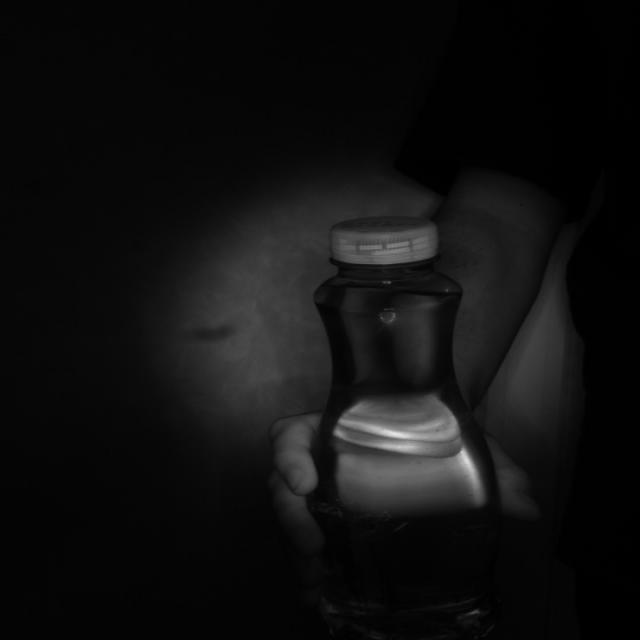Good: (324, 209, 449, 270)
